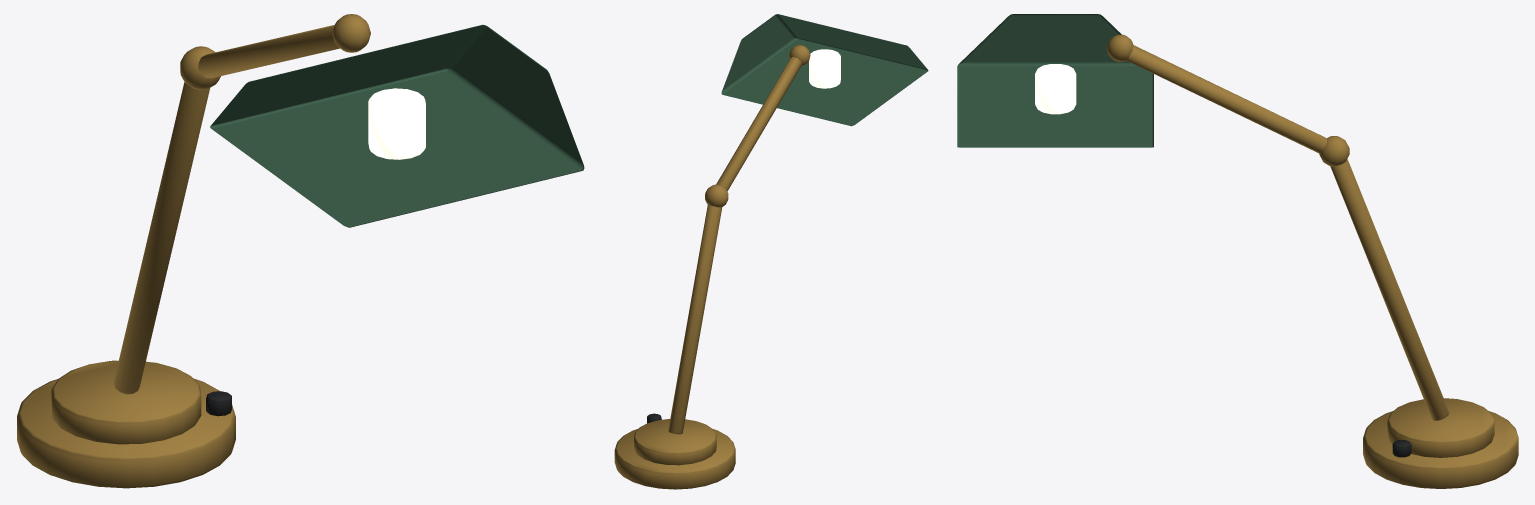
The model's file is asset_083_desk_lamp.glb.
The picture shows the model from 3 angles, left to right: view 1: azimuth 30°, elevation 25°; view 2: azimuth 150°, elevation 25°; view 3: azimuth 270°, elevation 25°; orthographic projection. The views are drawn at different scales.
Parts seen in each view (by area): view 1: MESH_LampShadeWall, MESH_LampBase, MESH_LampBaseCrown, MESH_LampArmLower, MESH_LampBulb, MESH_LampArmUpper, MESH_LampShadeJoint, MESH_LampElbow; view 2: MESH_LampShadeWall, MESH_LampBase, MESH_LampArmLower, MESH_LampBaseCrown, MESH_LampArmUpper, MESH_LampBulb, MESH_LampElbow; view 3: MESH_LampShadeWall, MESH_LampBase, MESH_LampArmLower, MESH_LampBaseCrown, MESH_LampArmUpper, MESH_LampBulb, MESH_LampElbow.
Boxes of the visible parts, x1=… form: MESH_LampShadeWall: x1=210, y1=24, x2=584, y2=227; MESH_LampBase: x1=17, y1=378, x2=235, y2=488; MESH_LampBaseCrown: x1=51, y1=360, x2=201, y2=444; MESH_LampArmLower: x1=113, y1=82, x2=209, y2=394; MESH_LampBulb: x1=368, y1=88, x2=425, y2=159; MESH_LampArmUpper: x1=198, y1=25, x2=339, y2=78; MESH_LampShadeJoint: x1=332, y1=14, x2=370, y2=52; MESH_LampElbow: x1=180, y1=46, x2=220, y2=89; MESH_LampShadeWall: x1=721, y1=14, x2=928, y2=126; MESH_LampBase: x1=614, y1=429, x2=735, y2=489; MESH_LampArmLower: x1=668, y1=205, x2=722, y2=434; MESH_LampBaseCrown: x1=634, y1=419, x2=716, y2=465; MESH_LampArmUpper: x1=716, y1=57, x2=802, y2=191; MESH_LampBulb: x1=809, y1=49, x2=840, y2=88; MESH_LampElbow: x1=705, y1=184, x2=728, y2=207; MESH_LampShadeWall: x1=957, y1=14, x2=1153, y2=147; MESH_LampBase: x1=1363, y1=411, x2=1518, y2=488; MESH_LampArmLower: x1=1330, y1=159, x2=1449, y2=420; MESH_LampBaseCrown: x1=1387, y1=398, x2=1494, y2=457; MESH_LampArmUpper: x1=1126, y1=45, x2=1326, y2=153; MESH_LampBulb: x1=1035, y1=64, x2=1076, y2=114; MESH_LampElbow: x1=1319, y1=136, x2=1349, y2=166.
Size of the model in its own units: 0.23 by 0.5377 by 0.6509.
